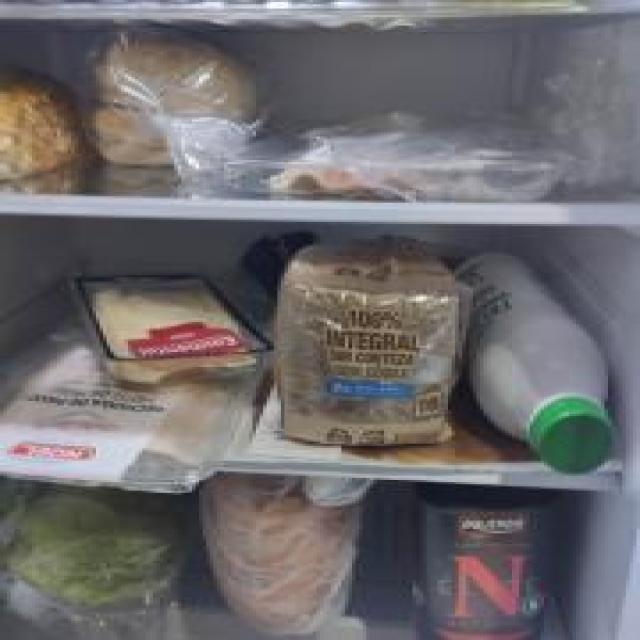bread: (279, 248, 457, 454)
cheese: (67, 264, 281, 390)
milk: (453, 250, 624, 477)
pineapple: (0, 70, 85, 185)
salad: (0, 495, 192, 634)
turkey: (0, 335, 256, 499)
